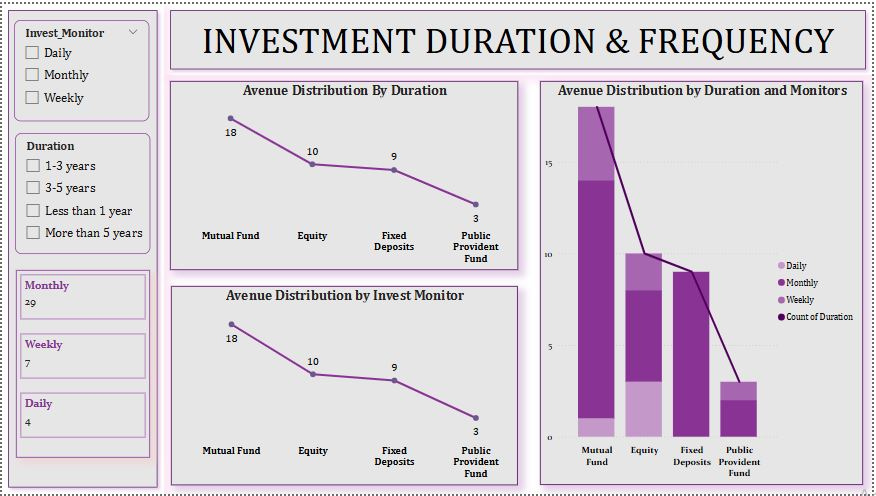

What the dashboard file says about the page in this screenshot:
{"tool":"powerbi","page":{"name":"Task 4","canvas":[1280,720],"ordinal":3},"visuals":[{"type":"shape","box":[0,0,237.6,720],"z":0},{"type":"shape","box":[237.6,0,1041.1,105.1],"z":1000},{"type":"slicer","fields":{"Values":["Data_set 2.Invest_Monitor"]},"box":[17.6,23.5,198.5,148.5],"z":2000},{"type":"lineStackedColumnComboChart","title":"Avenue Distribution by Duration and Monitors","fields":{"Y":["CountNonNull(Data_set 2.Invest_Monitor)"],"Y2":["CountNonNull(Data_set 2.Duration)"],"Series":["Data_set 2.Invest_Monitor"],"Category":["Data_set 2.Avenue"]},"box":[791.2,113.2,475,594.1],"z":3000},{"type":"slicer","fields":{"Values":["Data_set 2.Duration"]},"box":[19.1,189.7,198.5,177.9],"z":4000},{"type":"multiRowCard","title":"Investors","fields":{"Values":["Data_set 2.Invest_Monitor","Data_set 2.Duration"]},"box":[20.6,391.2,197.1,276.5],"z":5000},{"type":"lineChart","title":"Avenue Distribution by Invest Monitor","fields":{"Category":["Data_set 2.Avenue"],"Y":["CountNonNull(Data_set 2.Invest_Monitor)"]},"box":[248.5,414.7,510.3,292.6],"z":6000},{"type":"lineChart","title":"Avenue Distribution By Duration","fields":{"Category":["Data_set 2.Avenue"],"Y":["CountNonNull(Data_set 2.Duration)"]},"box":[247.1,113.2,511.8,277.9],"z":7000}]}

Visuals, with their boxes in screenshot pixels (x1, y1, x2, y2), scaled from the page's 1280x720 canvas onto the 876x496 screenshot:
shape: 0:0:163:495
shape: 163:0:875:72
slicer - Data_set 2.Invest_Monitor: 12:16:148:118
"Avenue Distribution by Duration and Monitors" lineStackedColumnComboChart: 541:78:867:487
slicer - Data_set 2.Duration: 13:131:149:253
"Investors" multiRowCard: 14:269:149:460
"Avenue Distribution by Invest Monitor" lineChart: 170:286:519:487
"Avenue Distribution By Duration" lineChart: 169:78:519:269
